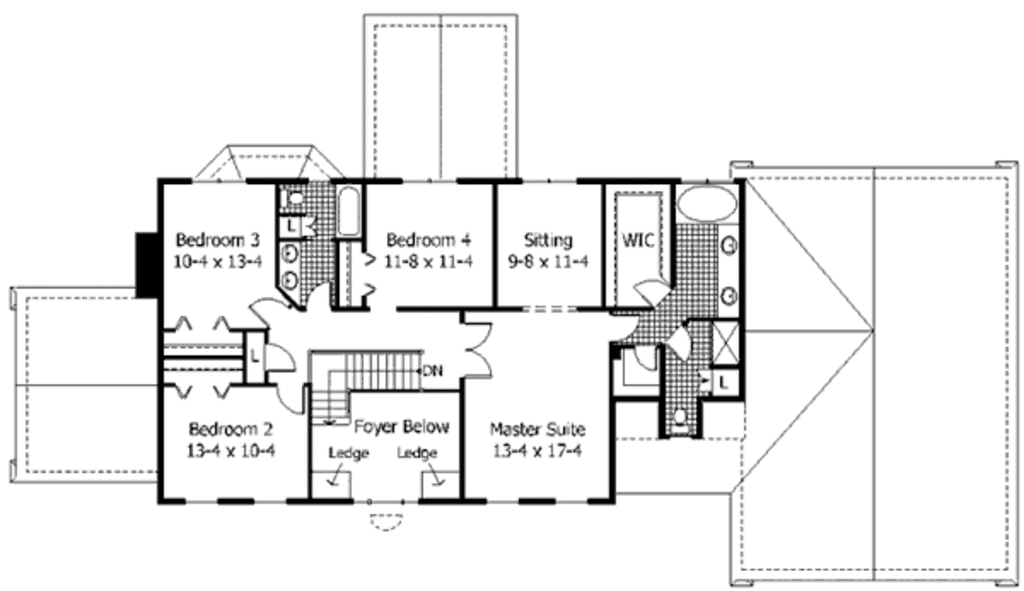door: (460, 317, 491, 382), (629, 275, 676, 306), (247, 292, 290, 325), (263, 341, 303, 376), (665, 321, 694, 362), (628, 343, 661, 375), (270, 383, 302, 413), (306, 283, 333, 309)
large_sink: (669, 404, 695, 442), (276, 189, 303, 210)
small_sink: (714, 222, 739, 314), (274, 241, 305, 302)
stairs: (305, 348, 427, 425)
tub: (674, 180, 737, 225), (335, 180, 366, 239)
windows: (518, 174, 578, 189), (391, 177, 459, 187)
